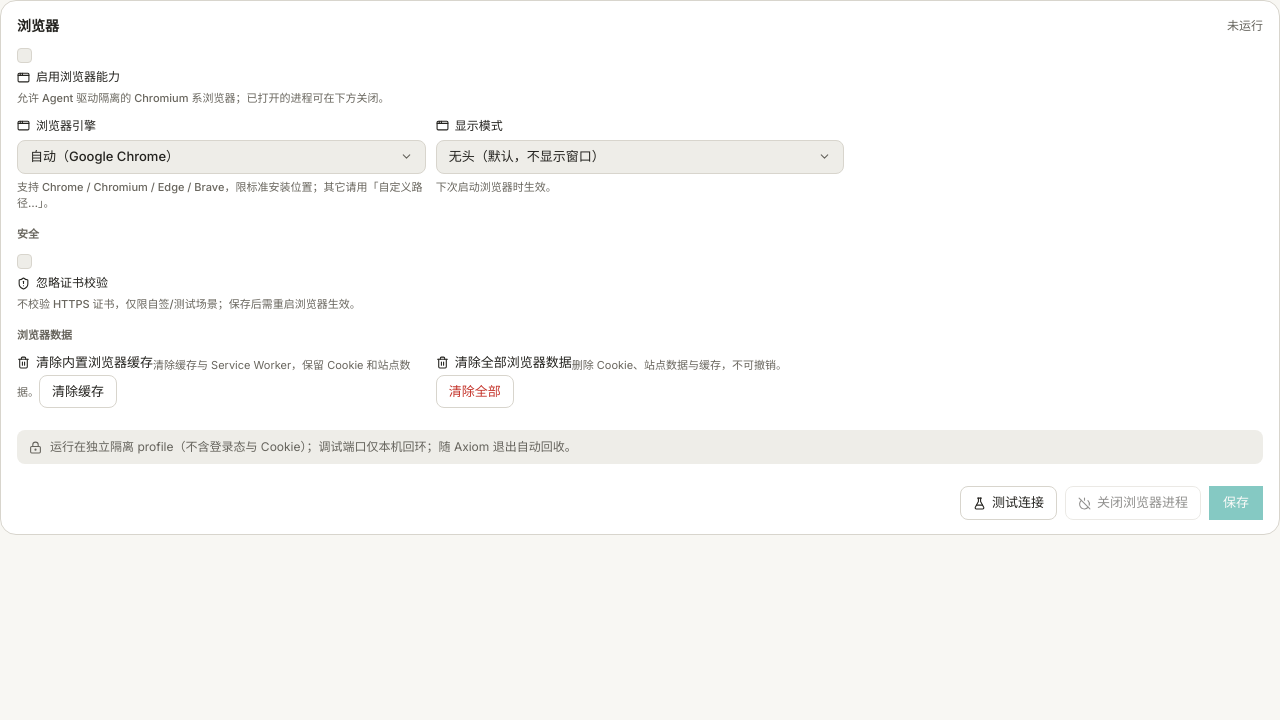
BrowserSection › 保存按钮持久化配置并回写 Rust 归一化路径
Step 1. Click the checkbox labelled "启用浏览器能力" → point(24, 56), box left=17, top=48, right=32, bottom=63
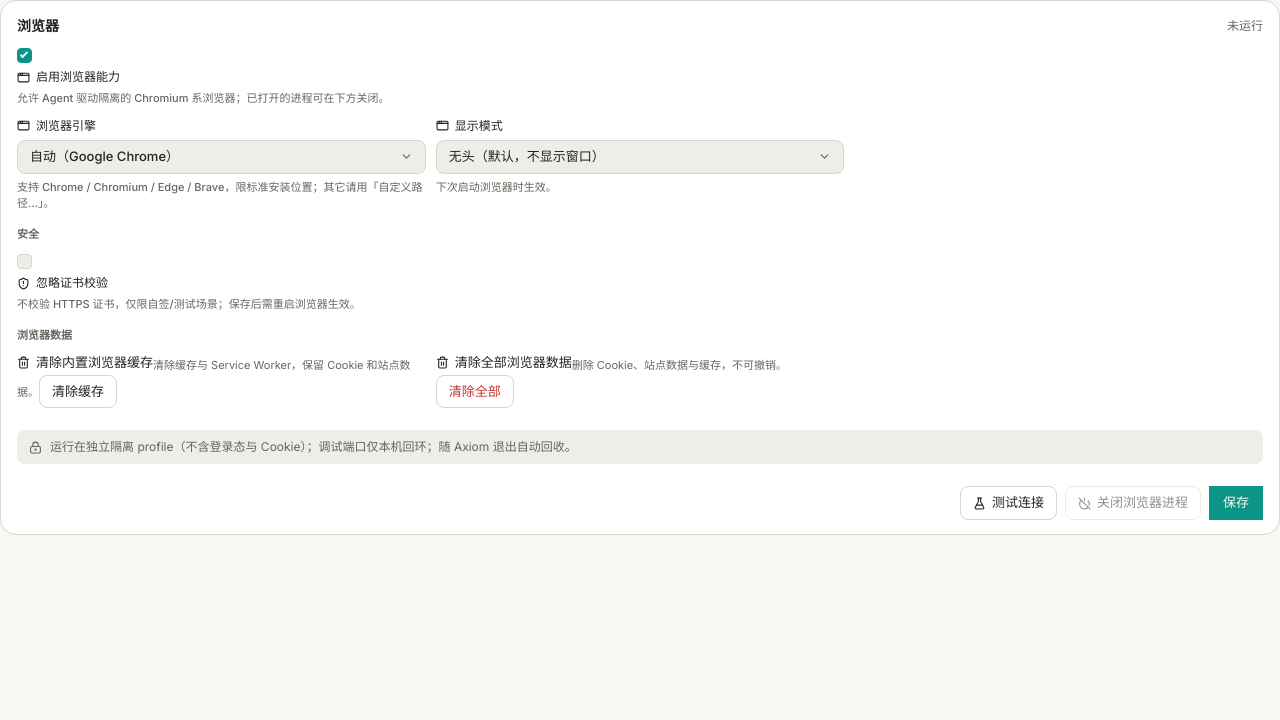
Note: 路径输入框挂在「自定义路径…」选项下：先选它再输入。
Step 2. Select "自定义路径…" in the dropdown labelled "浏览器引擎" → point(221, 156), box left=17, top=140, right=426, bottom=174
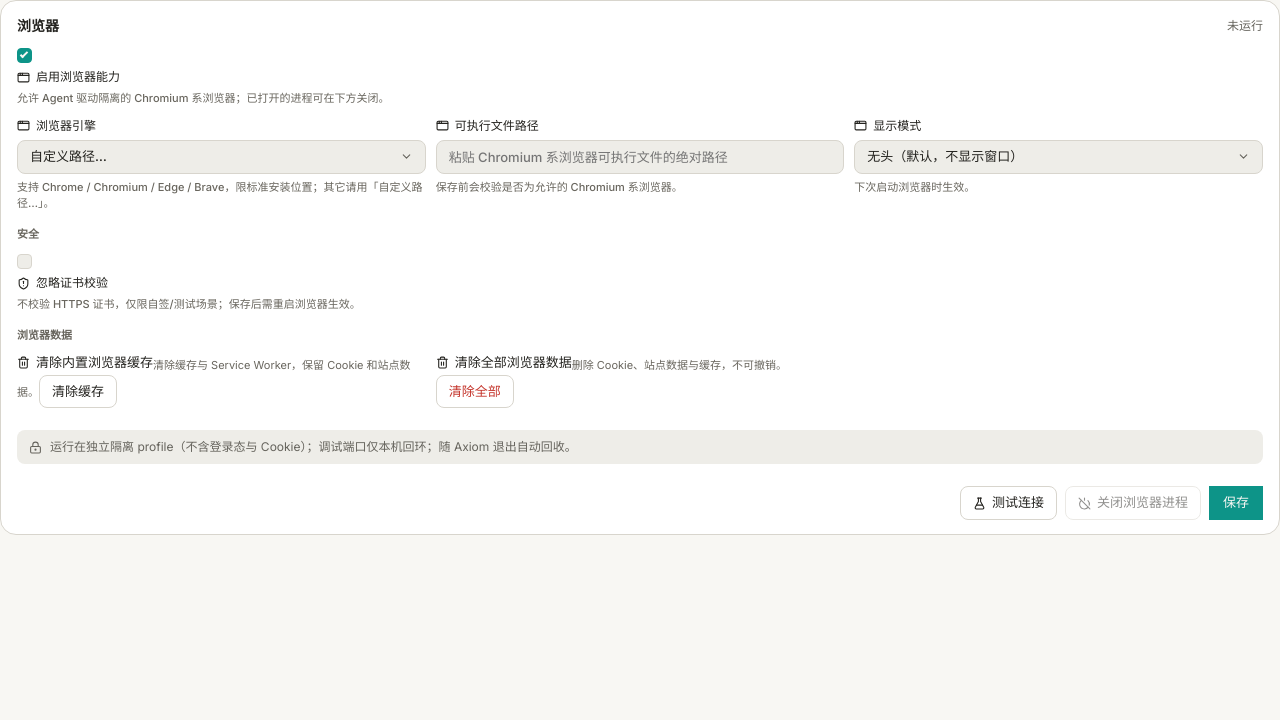
Step 3. Type "/Applications/Google Chrome.app/Contents/MacOS/Google Chrome" into the field named "浏览器可执行文件路径（可选）" → point(640, 156), box left=436, top=140, right=844, bottom=174
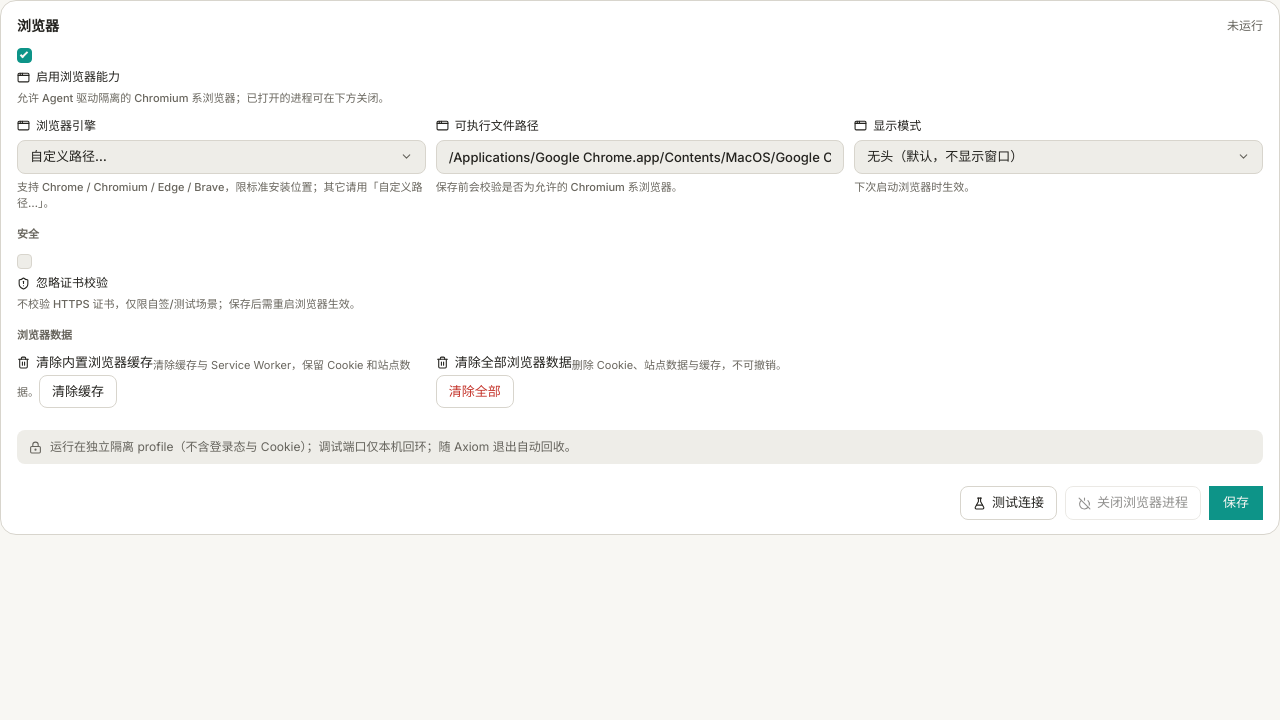
Check: the button "保存" is enabled
Step 4. Click the button "保存" → point(1236, 503), box left=1209, top=486, right=1263, bottom=520
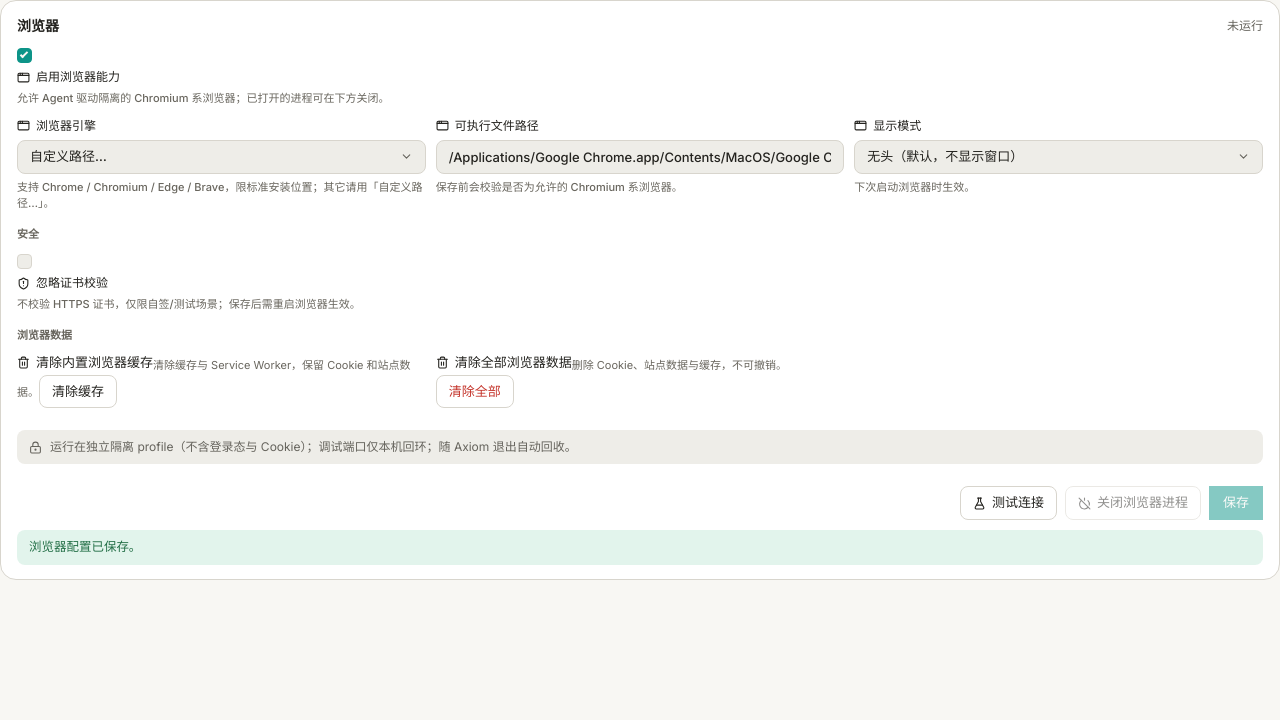
Check: the text "浏览器配置已保存。" is shown, box left=29, top=539, right=141, bottom=554
